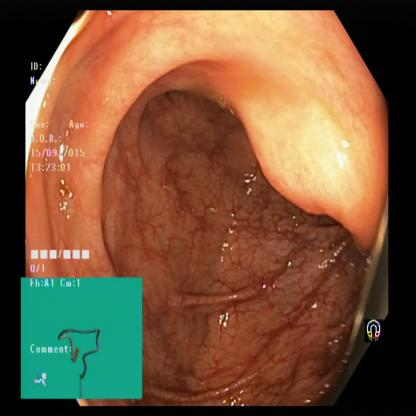Labels: (24, 43, 114, 280), (20, 278, 144, 399)
Polyps: (253, 88, 338, 223)
